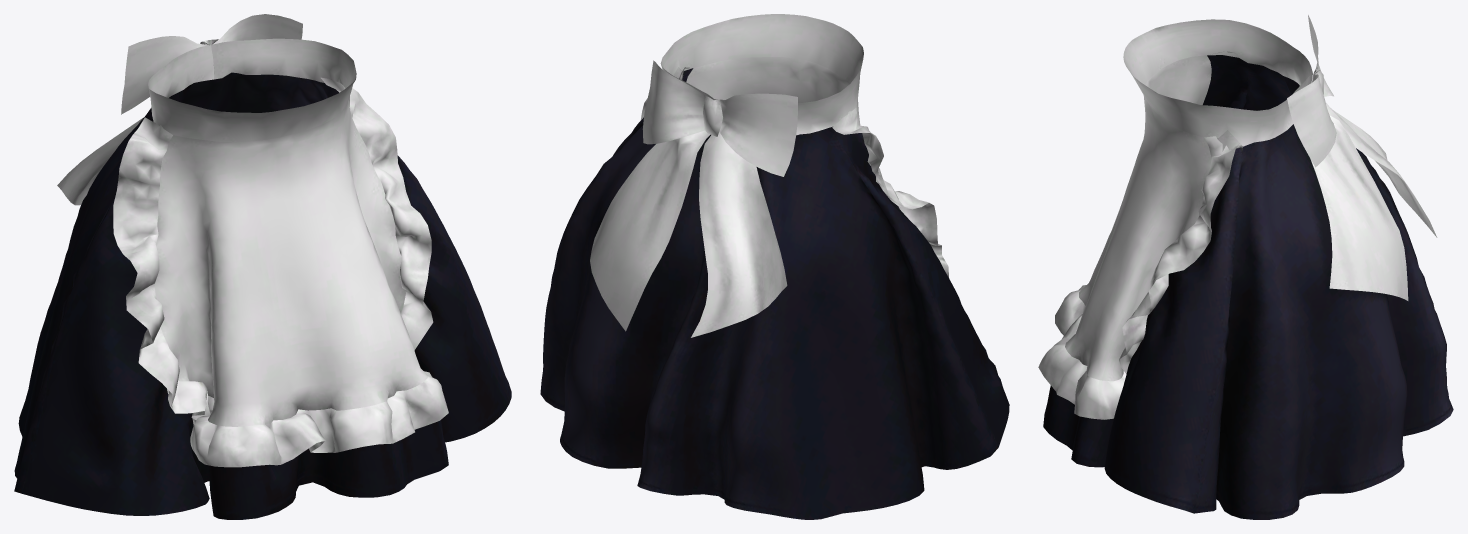
Rendered from Maid_Dress_Test.fbx.
The picture shows the model from 3 angles, left to right: view 1: azimuth 30°, elevation 25°; view 2: azimuth 150°, elevation 25°; view 3: azimuth 270°, elevation 25°; orthographic projection. The views are drawn at different scales.
Visible parts, largest first — view 1: Maid_Dress_Test; view 2: Maid_Dress_Test; view 3: Maid_Dress_Test.
Boxes of the visible parts, bbox=[...] form: Maid_Dress_Test: bbox=[14, 14, 511, 519]; Maid_Dress_Test: bbox=[540, 14, 1009, 519]; Maid_Dress_Test: bbox=[1038, 15, 1453, 519].
Bounding box in the file's own units: 38.42 × 31.07 × 30.68.
1 material, 1 textured.
